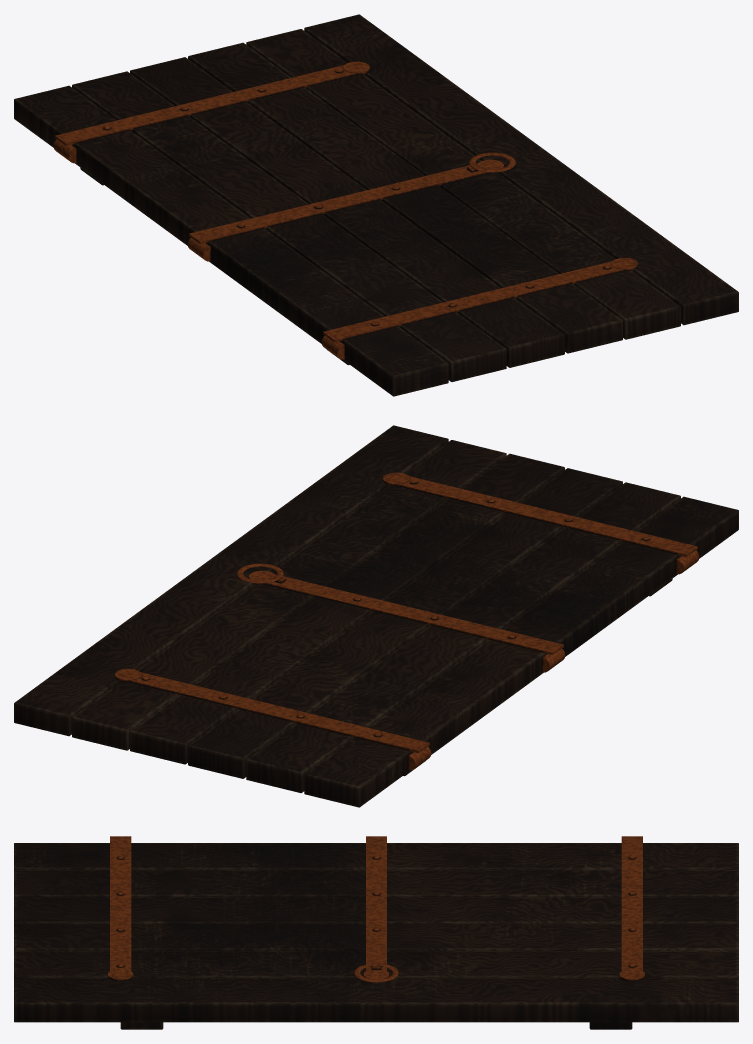
The model's file is attic_hatch.glb.
3 views of the same model, one above another, from view 1: azimuth 30°, elevation 25°; view 2: azimuth 150°, elevation 25°; view 3: azimuth 270°, elevation 25° (orthographic). The views are drawn at different scales.
Parts seen in each view (by area): view 1: Lid, Iron; view 2: Lid, Iron; view 3: Lid, Iron.
Boxes of the visible parts, bbox=[...] form: Lid: bbox=[14, 14, 738, 396]; Iron: bbox=[53, 61, 637, 359]; Lid: bbox=[14, 425, 738, 807]; Iron: bbox=[115, 472, 699, 770]; Lid: bbox=[14, 843, 738, 1029]; Iron: bbox=[107, 836, 645, 982].
Size of the model in its own units: 0.917 by 0.0941 by 1.7.
Materials: 2 (2 with a texture image).
